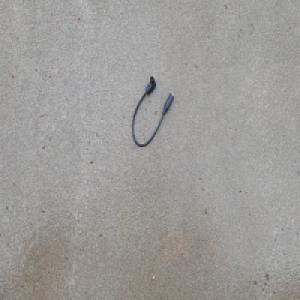Wire: (131, 74, 174, 148)
